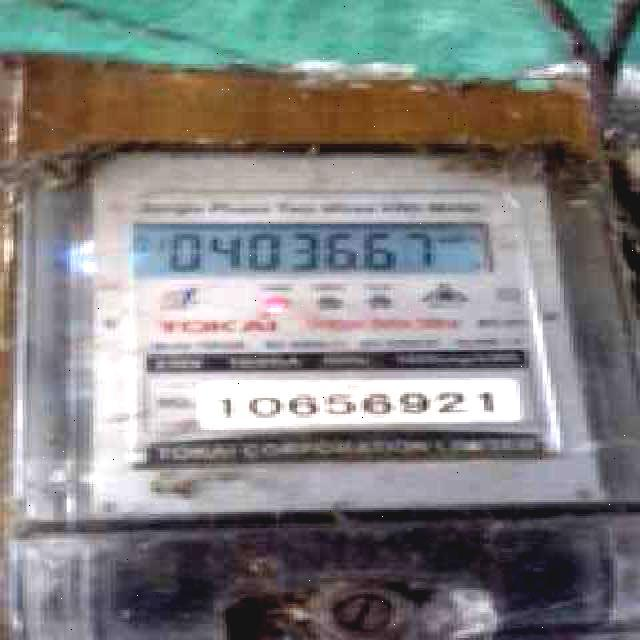LCD: (119, 215, 510, 280)
